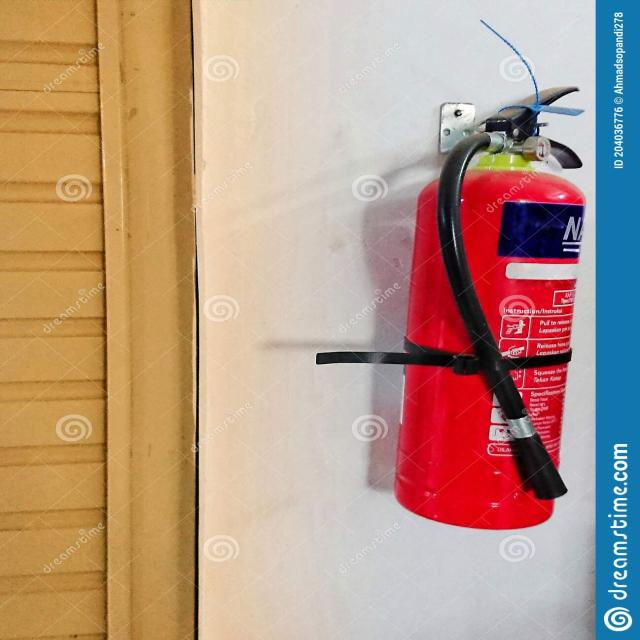fire_extinguisher: (386, 73, 596, 540)
